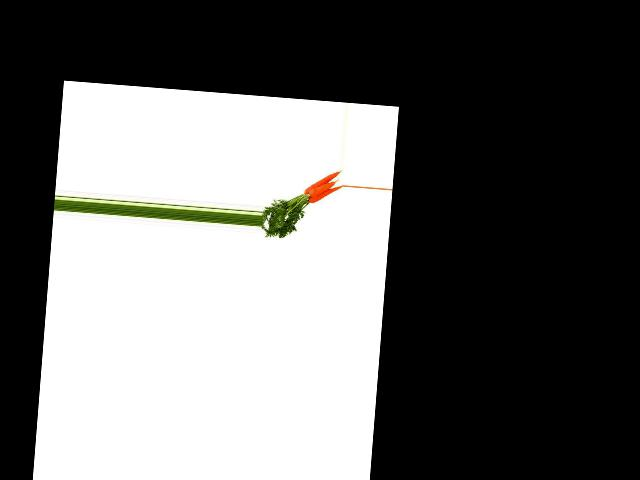carrot: (309, 182, 341, 206)
